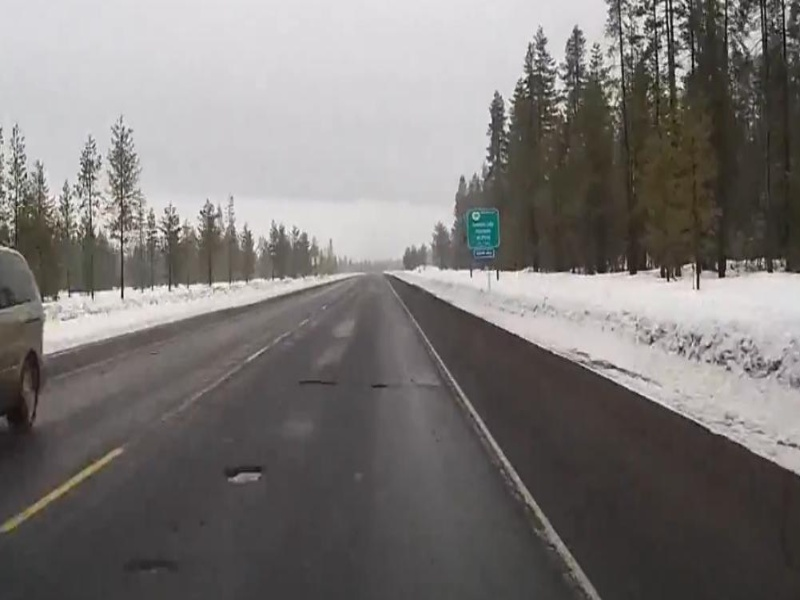pothole: (221, 463, 269, 487)
